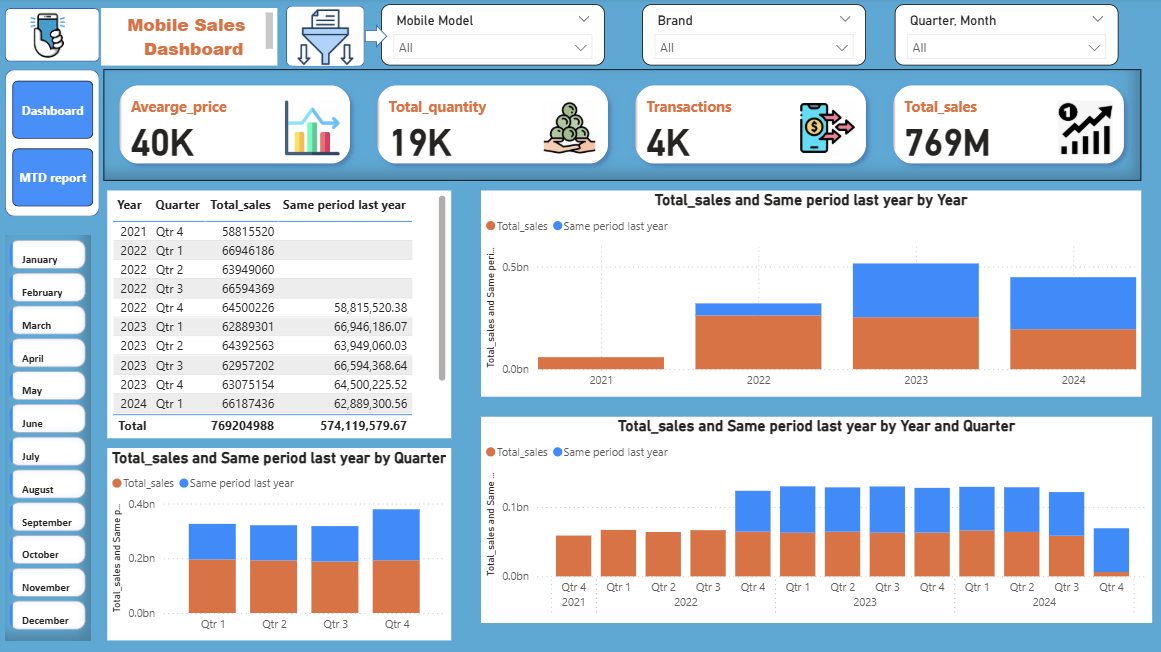

What the dashboard file says about the page in this screenshot:
{"tool":"powerbi","page":{"name":"Same period last year","canvas":[1280,720],"ordinal":2},"visuals":[{"type":"shape","box":[9.6,11,104.3,59],"z":0},{"type":"image","box":[0,4.1,113.9,74.1],"z":1000},{"type":"shape","box":[9.6,78.2,104.3,161.9],"z":2000},{"type":"cardVisual","fields":{"Data":["Sales_data.Avearge_price","Sales_data.Total_quantity","Sales_data.Transactions","Sales_data.Total_sales"]},"box":[118,78.2,1138.9,122.1],"z":3000},{"type":"slicer","fields":{"Values":["Sales_data.Mobile Model"]},"box":[422.6,6.9,245.6,67.2],"z":4000},{"type":"slicer","fields":{"Values":["Sales_data.Brand"]},"box":[709.4,6.9,245.6,67.2],"z":5000},{"type":"slicer","fields":{"Values":["Custom_calender.Date.Variation.Date Hierarchy.Quarter","Custom_calender.Date.Variation.Date Hierarchy.Month"]},"box":[986.6,6.9,245.6,67.2],"z":6000},{"type":"shape","box":[318.4,8.2,86.4,67.2],"z":7000},{"type":"image","box":[325.2,4.1,72.7,76.8],"z":8000},{"type":"shape","box":[404.8,28.8,24.7,26.1],"z":9000},{"type":"textbox","box":[115.3,11,193.5,63.1],"z":10000},{"type":"advancedSlicerVisual","fields":{"Values":["Custom_calender.Date.Variation.Date Hierarchy.Month"]},"box":[9.6,260.7,94.7,444.6],"z":11000},{"type":"tableEx","fields":{"Values":["Custom_calender.Date.Variation.Date Hierarchy.Year","Custom_calender.Date.Variation.Date Hierarchy.Quarter","Sales_data.Total_sales","Sales_data.Same period last year"]},"box":[122.1,211.3,377.4,271.7],"z":12000},{"type":"lineStackedColumnComboChart","fields":{"Category":["Custom_calender.Date.Variation.Date Hierarchy.Year","Custom_calender.Date.Variation.Date Hierarchy.Quarter"],"Y":["Sales_data.Total_sales","Sales_data.Same period last year"]},"box":[532.4,211.3,724.5,226.4],"z":13000},{"type":"lineStackedColumnComboChart","fields":{"Category":["Custom_calender.Date.Variation.Date Hierarchy.Year","Custom_calender.Date.Variation.Date Hierarchy.Quarter"],"Y":["Sales_data.Total_sales","Sales_data.Same period last year"]},"box":[122.1,494,377.4,211.3],"z":14000},{"type":"lineStackedColumnComboChart","fields":{"Category":["Custom_calender.Date.Variation.Date Hierarchy.Year","Custom_calender.Date.Variation.Date Hierarchy.Quarter"],"Y":["Sales_data.Total_sales","Sales_data.Same period last year"]},"box":[532.4,459.7,736.9,226.4],"z":15000},{"type":"pageNavigator","box":[17.8,90.6,89.2,138.6],"z":16000}]}

Visuals, with their boxes in screenshot pixels (x1, y1, x2, y2), scaled from the page's 1280x720 canvas onto the 1161x652 screenshot:
shape: bbox=(9, 10, 103, 63)
image: bbox=(0, 4, 103, 71)
shape: bbox=(9, 71, 103, 217)
cardVisual - Sales_data.Avearge_price x Sales_data.Total_quantity: bbox=(107, 71, 1140, 181)
slicer - Sales_data.Mobile Model: bbox=(383, 6, 606, 67)
slicer - Sales_data.Brand: bbox=(643, 6, 866, 67)
slicer - Custom_calender.Date.Variation.Date Hierarchy.Quarter x Custom_calender.Date.Variation.Date Hierarchy.Month: bbox=(895, 6, 1118, 67)
shape: bbox=(289, 7, 367, 68)
image: bbox=(295, 4, 361, 73)
shape: bbox=(367, 26, 390, 50)
textbox: bbox=(105, 10, 280, 67)
advancedSlicerVisual - Custom_calender.Date.Variation.Date Hierarchy.Month: bbox=(9, 236, 95, 639)
tableEx - Custom_calender.Date.Variation.Date Hierarchy.Year x Custom_calender.Date.Variation.Date Hierarchy.Quarter: bbox=(111, 191, 453, 437)
lineStackedColumnComboChart - Custom_calender.Date.Variation.Date Hierarchy.Year x Custom_calender.Date.Variation.Date Hierarchy.Quarter: bbox=(483, 191, 1140, 396)
lineStackedColumnComboChart - Custom_calender.Date.Variation.Date Hierarchy.Year x Custom_calender.Date.Variation.Date Hierarchy.Quarter: bbox=(111, 447, 453, 639)
lineStackedColumnComboChart - Custom_calender.Date.Variation.Date Hierarchy.Year x Custom_calender.Date.Variation.Date Hierarchy.Quarter: bbox=(483, 416, 1151, 621)
pageNavigator: bbox=(16, 82, 97, 208)
